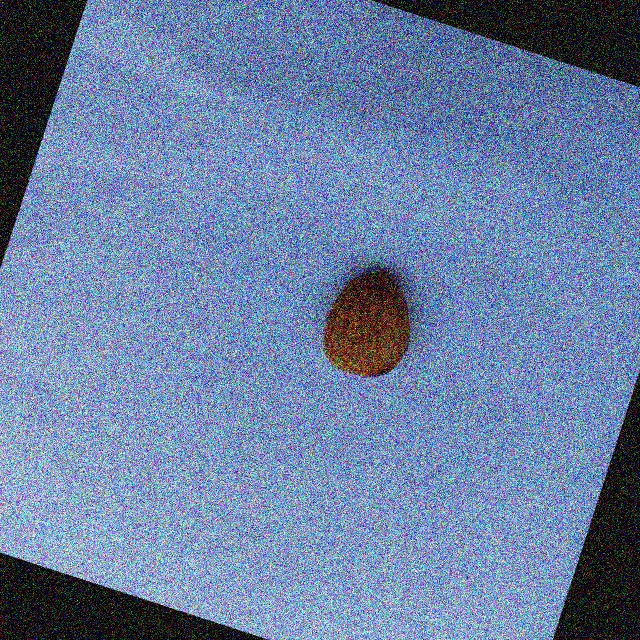grade1: (302, 249, 436, 396)
